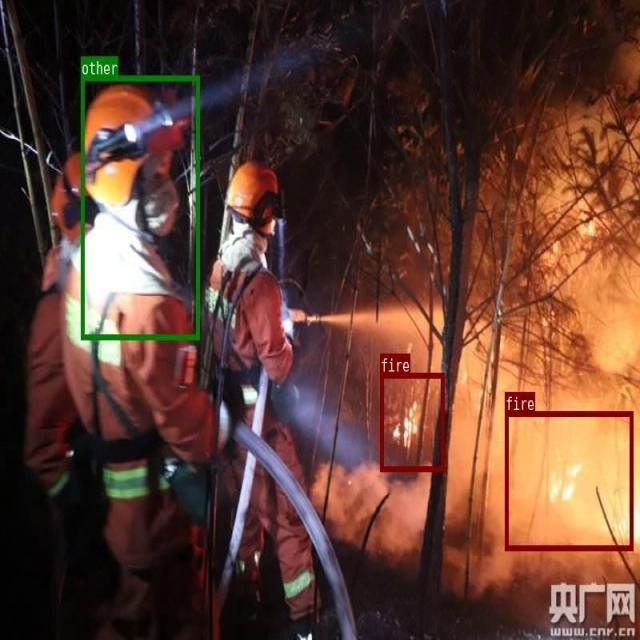fire: (504, 411, 633, 550), (379, 372, 444, 470)
